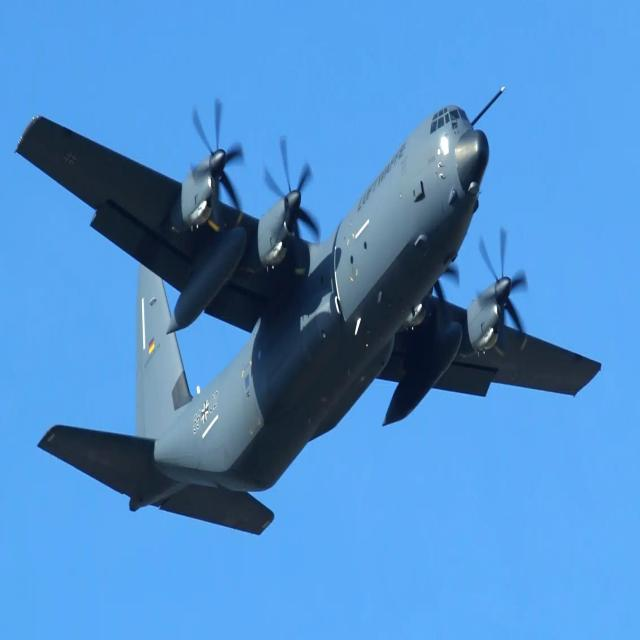C130: (6, 51, 634, 581)
